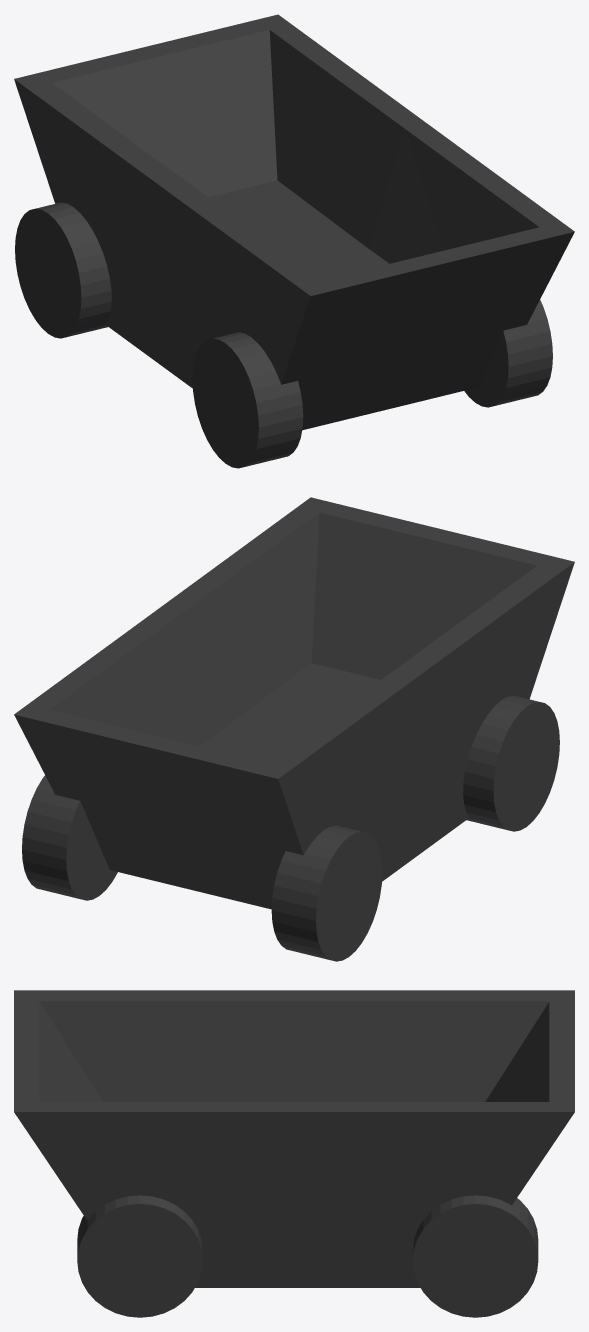
File: mineCart.obj
3 views of the same model, one above another, from view 1: azimuth 30°, elevation 25°; view 2: azimuth 150°, elevation 25°; view 3: azimuth 270°, elevation 25° (orthographic). The views are drawn at different scales.
Visible parts, largest first — view 1: Cylinder.007_Cylinder.008; view 2: Cylinder.007_Cylinder.008; view 3: Cylinder.007_Cylinder.008.
Boxes of the visible parts, bbox=[...] form: Cylinder.007_Cylinder.008: bbox=[14, 14, 574, 468]; Cylinder.007_Cylinder.008: bbox=[14, 497, 574, 961]; Cylinder.007_Cylinder.008: bbox=[14, 990, 574, 1317].
Size of the model in its own units: 1.49 by 1.03 by 2.61.
Materials: 1 (1 with a texture image).
